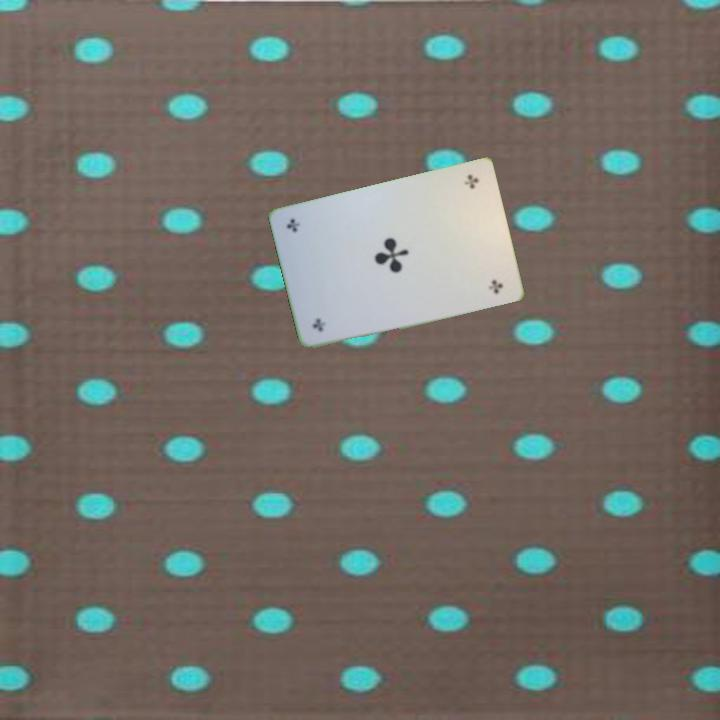c_a.png: (293, 264, 364, 341), (428, 168, 499, 245)
